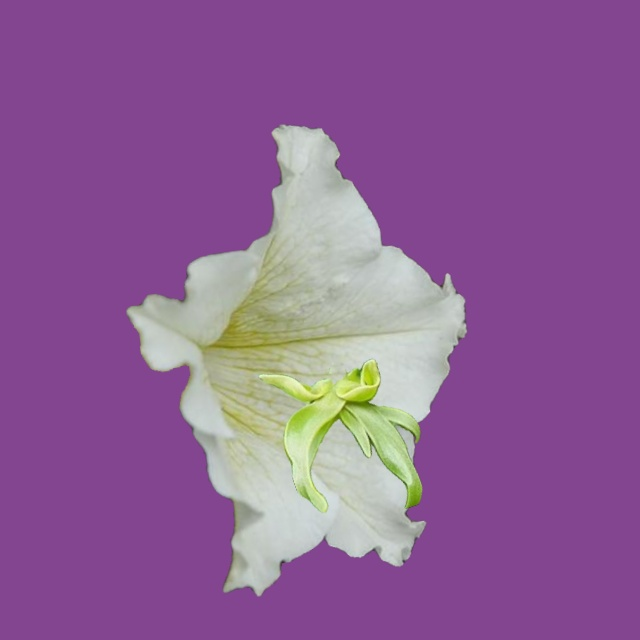foxglove: (331, 269, 398, 312)
petunia: (126, 125, 466, 595)
ylang-ylang: (259, 359, 421, 512)
